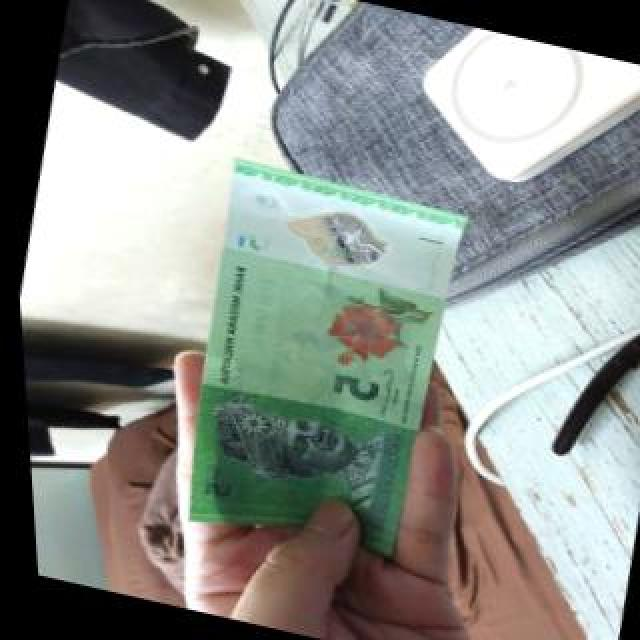5 Ringgit: (150, 162, 473, 562)
